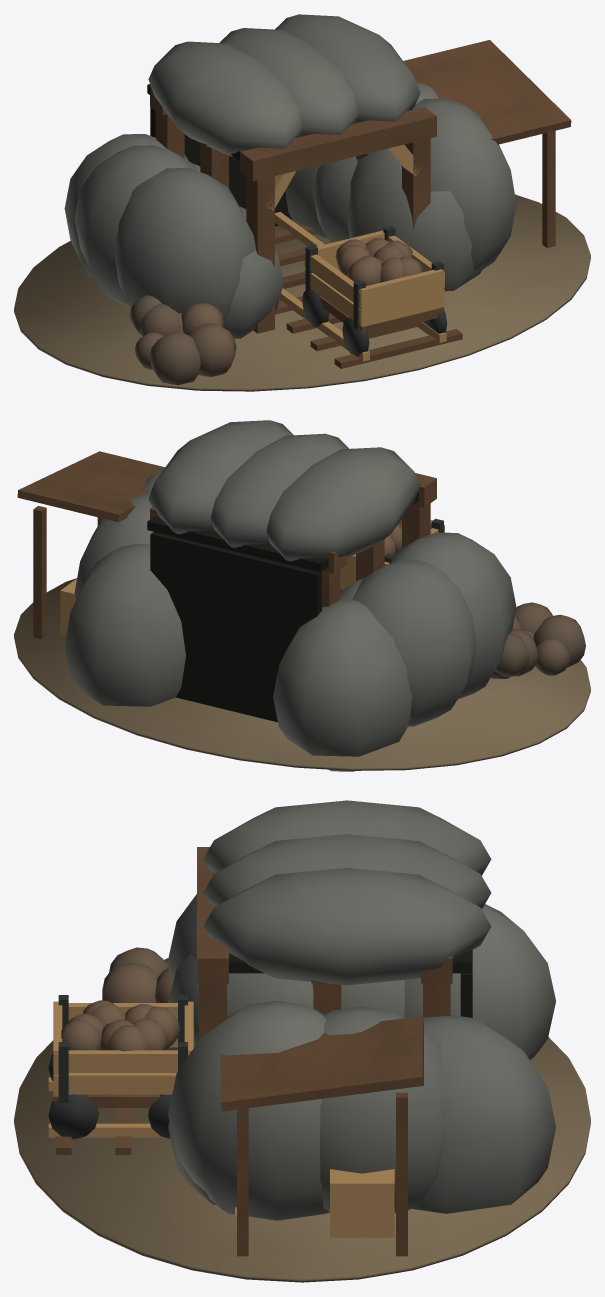
Rendered from mine.glb.
3 renders of one model, top to bottom at view 1: azimuth 30°, elevation 25°; view 2: azimuth 150°, elevation 25°; view 3: azimuth 270°, elevation 25°, orthographic. The views are drawn at different scales.
Parts seen in each view (by area): view 1: mine; view 2: mine; view 3: mine.
Part boxes in pixels (left/top/right/bottom): mine: left=14, top=14, right=590, bottom=391; mine: left=14, top=420, right=590, bottom=771; mine: left=14, top=800, right=590, bottom=1282.
Size of the model in its own units: 7.6 by 3.64 by 5.8.
1 material, 1 textured.
